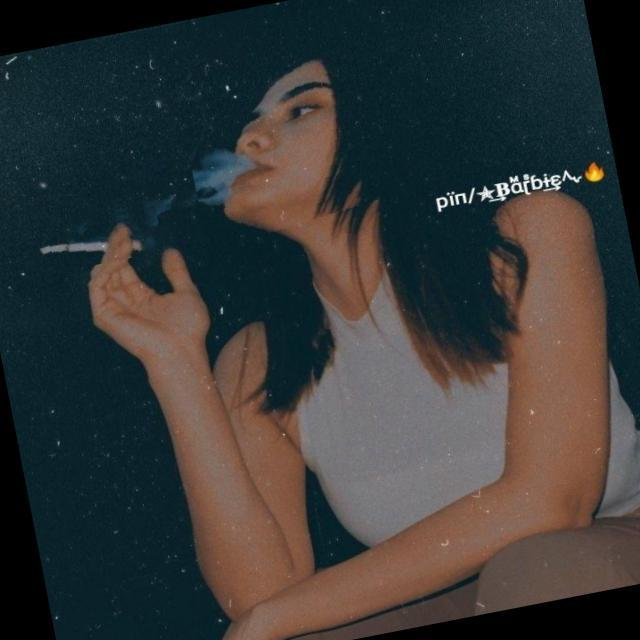cigarette: (17, 198, 164, 278)
